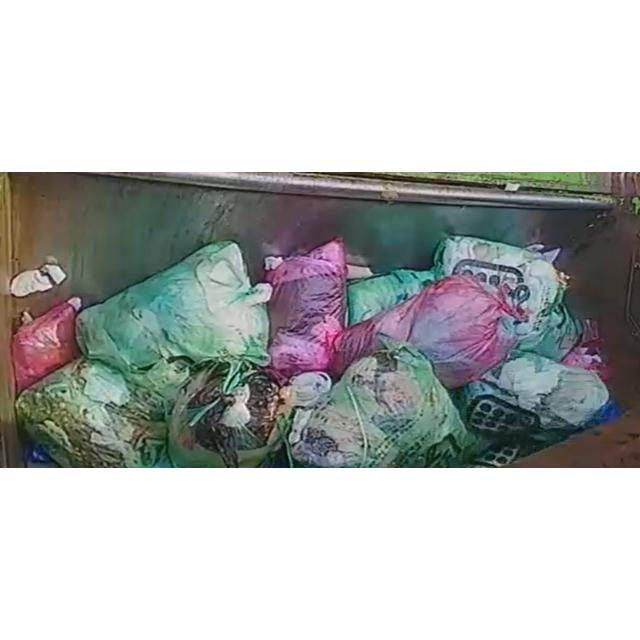general_trashbag: (78, 241, 271, 372), (289, 342, 474, 466), (435, 237, 581, 361), (128, 357, 291, 467), (16, 358, 168, 467), (465, 353, 609, 433), (348, 270, 435, 325)
other_trashbag: (330, 274, 516, 388), (265, 238, 348, 382), (12, 298, 81, 393)
